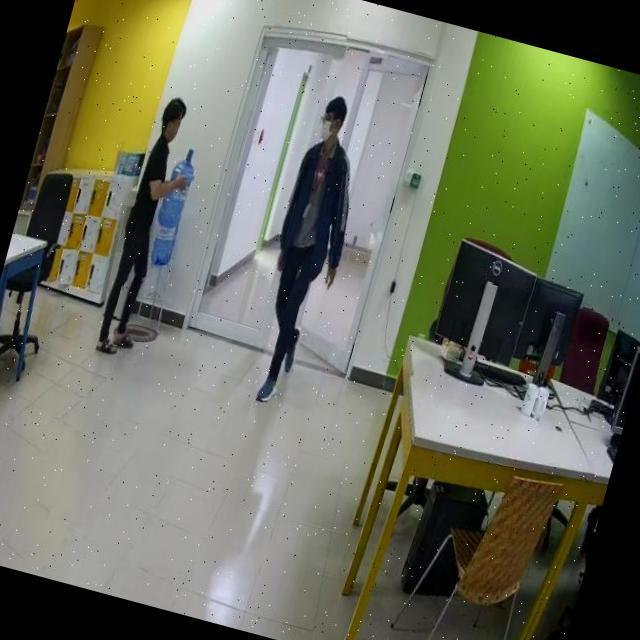person: (236, 92, 370, 410), (91, 92, 198, 356)
